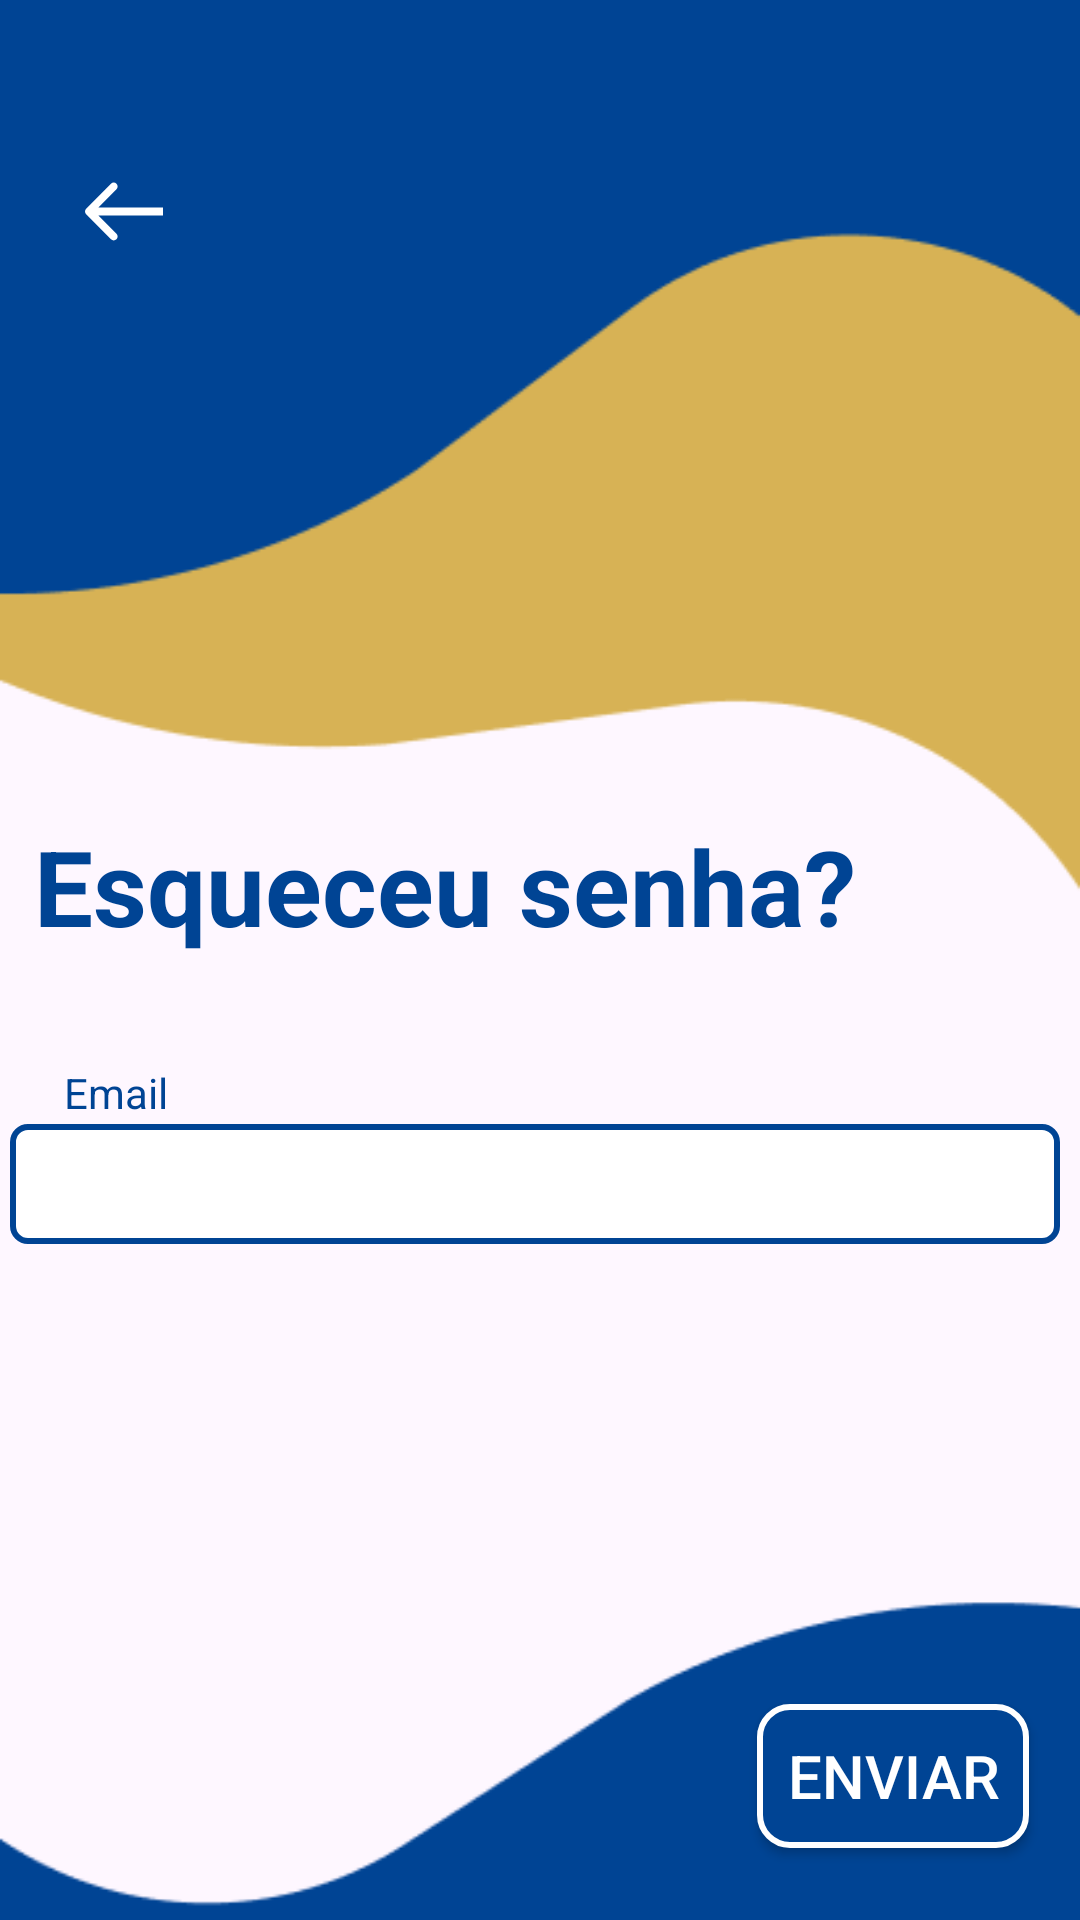

Locate icon controls on the screen. Image size 1080×1920, boxes as (x1,y1,x2,y2).
arrow: (85,182,163,241)
